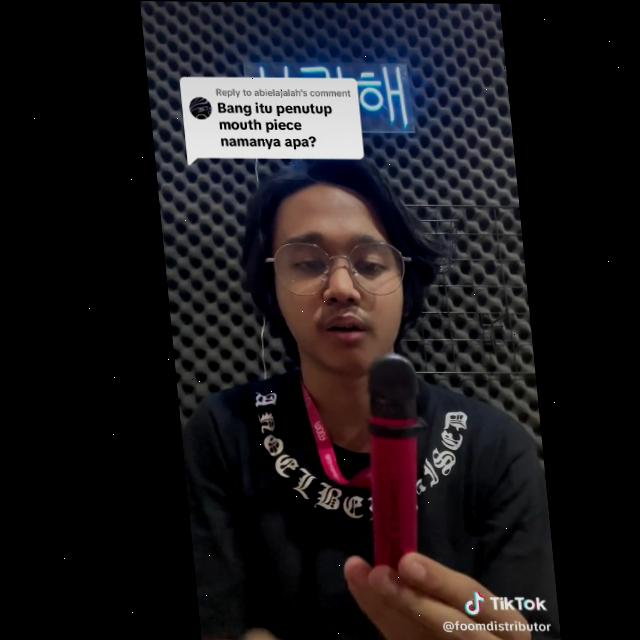vape: (347, 355, 425, 569)
